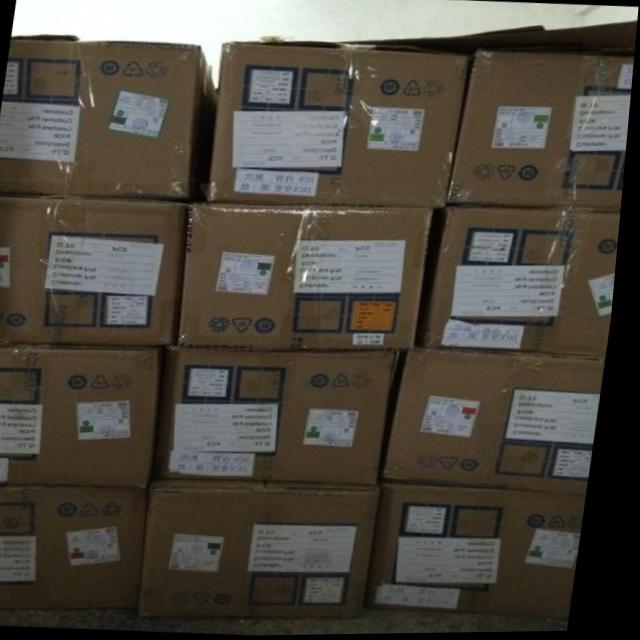box: (212, 43, 472, 210), (186, 204, 435, 352), (0, 37, 220, 202), (149, 480, 388, 618), (166, 351, 408, 486), (389, 351, 612, 495), (423, 206, 625, 362), (448, 53, 636, 213), (380, 484, 596, 622), (0, 197, 191, 348), (0, 349, 173, 486), (0, 483, 159, 611)
